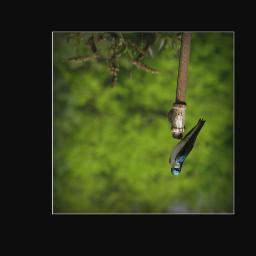Swallow: (169, 116, 206, 176)
